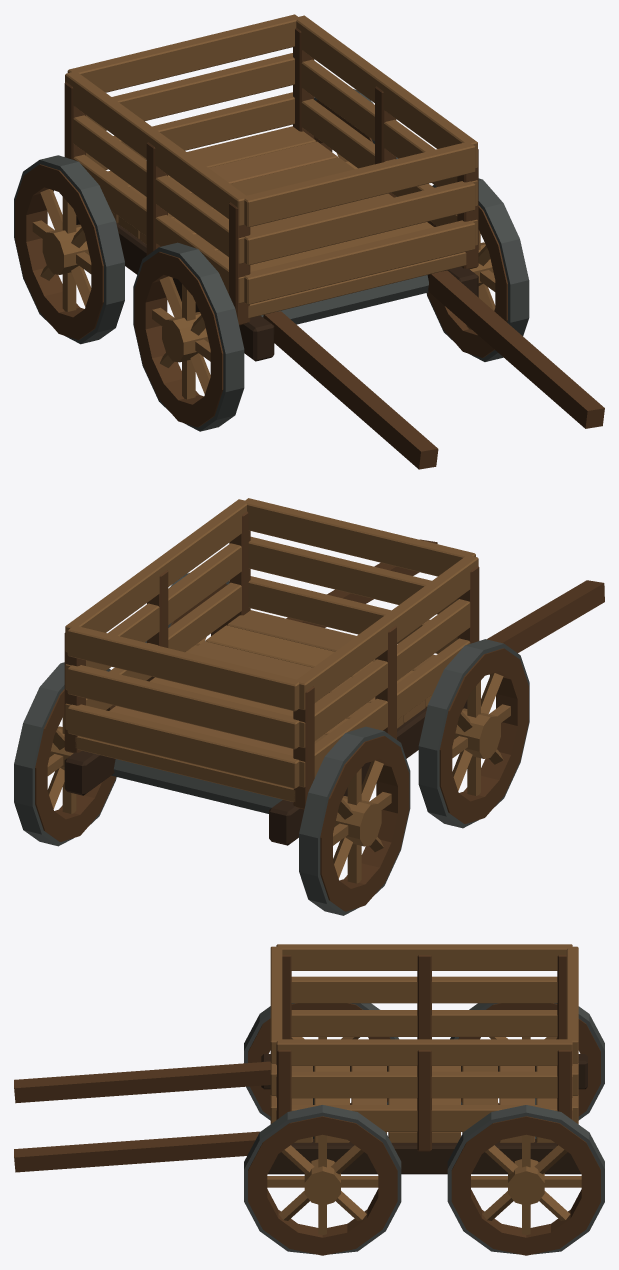
The model's file is cart.glb.
3 views of the same model, one above another, from view 1: azimuth 30°, elevation 25°; view 2: azimuth 150°, elevation 25°; view 3: azimuth 270°, elevation 25° (orthographic). The views are drawn at different scales.
Visible parts, largest first — view 1: Timber, Metal; view 2: Timber, Metal; view 3: Timber, Metal.
Part boxes in pixels (<box>): Timber: <box>15,14,604,469</box>; Metal: <box>14,89,529,431</box>; Timber: <box>35,498,604,911</box>; Metal: <box>14,573,529,915</box>; Timber: <box>14,944,600,1255</box>; Metal: <box>244,1003,604,1254</box>.
Size of the model in its own units: 2.36 by 1.65 by 4.47.
